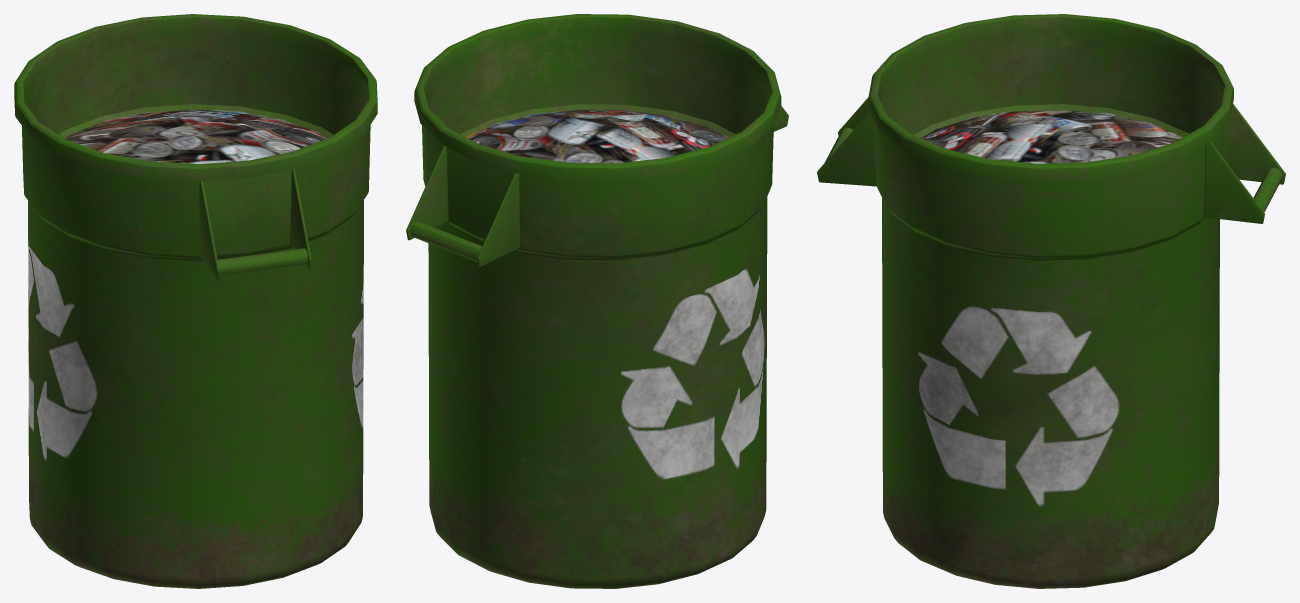
File: recycle can.fbx
The picture shows the model from 3 angles, left to right: view 1: azimuth 30°, elevation 25°; view 2: azimuth 150°, elevation 25°; view 3: azimuth 270°, elevation 25°; orthographic projection.
Parts seen in each view (by area): view 1: Cylinder.001; view 2: Cylinder.001; view 3: Cylinder.001.
Part boxes in pixels (x1,y1,x2,y2): Cylinder.001: [14, 14, 377, 588]; Cylinder.001: [406, 14, 788, 588]; Cylinder.001: [817, 14, 1285, 588].
Size of the model in its own units: 56.86 by 74.6 by 72.93.
1 material, 1 textured.
